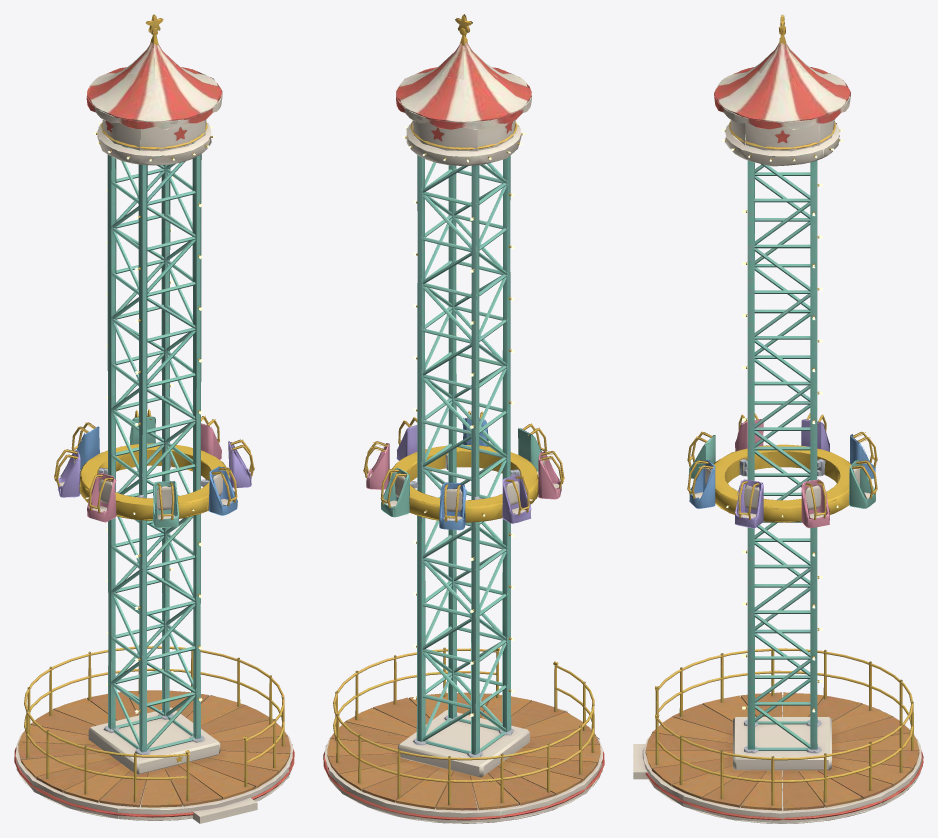
Rendered from torre_caida.glb.
The picture shows the model from 3 angles, left to right: view 1: azimuth 30°, elevation 25°; view 2: azimuth 150°, elevation 25°; view 3: azimuth 270°, elevation 25°; orthographic projection.
Visible parts, largest first — view 1: drop-tower_body; view 2: drop-tower_body; view 3: drop-tower_body.
Boxes of the visible parts, x1,y1,x2,y2 form: drop-tower_body: [14, 14, 294, 823]; drop-tower_body: [323, 14, 604, 823]; drop-tower_body: [633, 14, 923, 823].
Bounding box in the file's own units: 5.41 × 15.9 × 5.57.
Materials: 4 (2 with a texture image).
